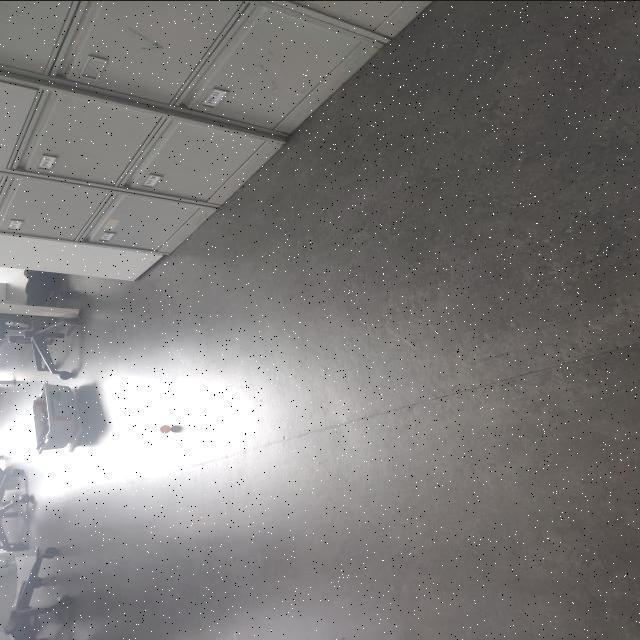ping-pong-ball: (158, 424, 172, 434)
